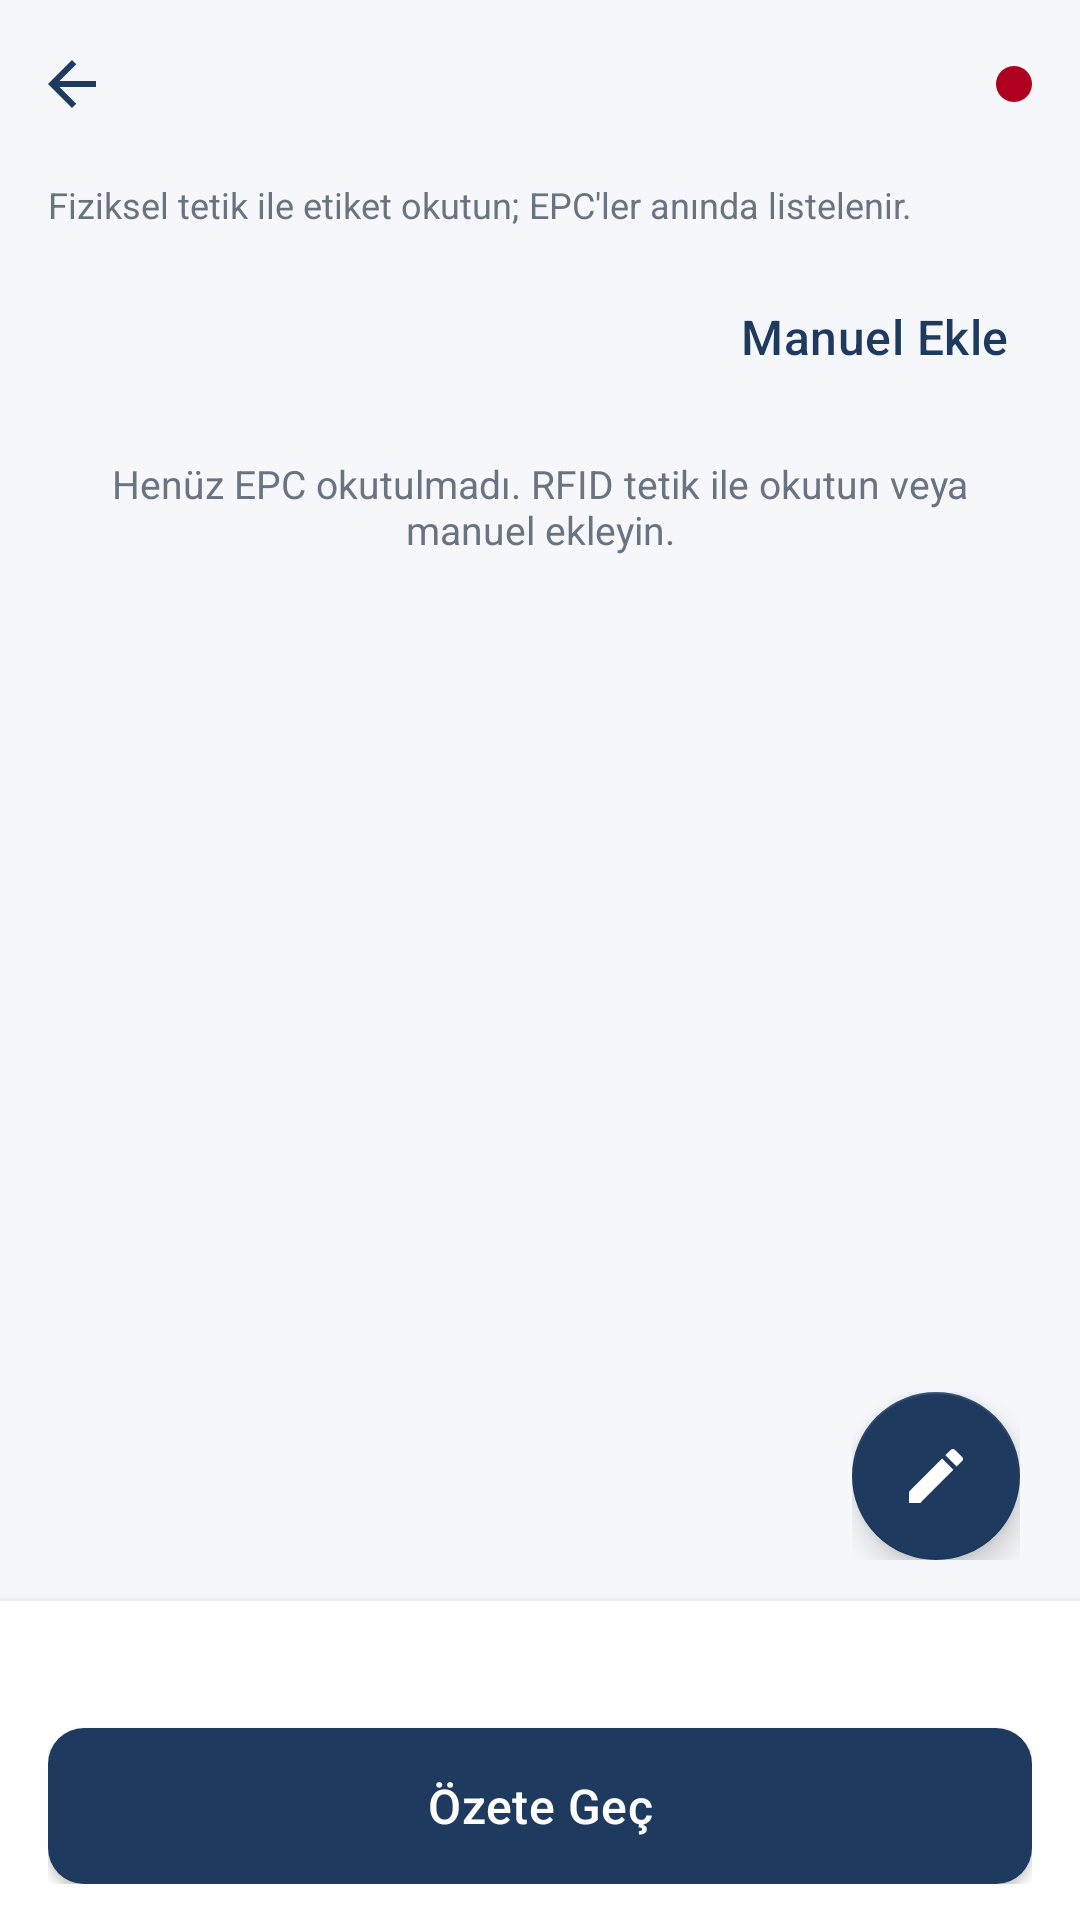

Point at icon controls on the screen. Image size 1080 x 1920, points as point (x, y).
Geri: point (72, 84)
